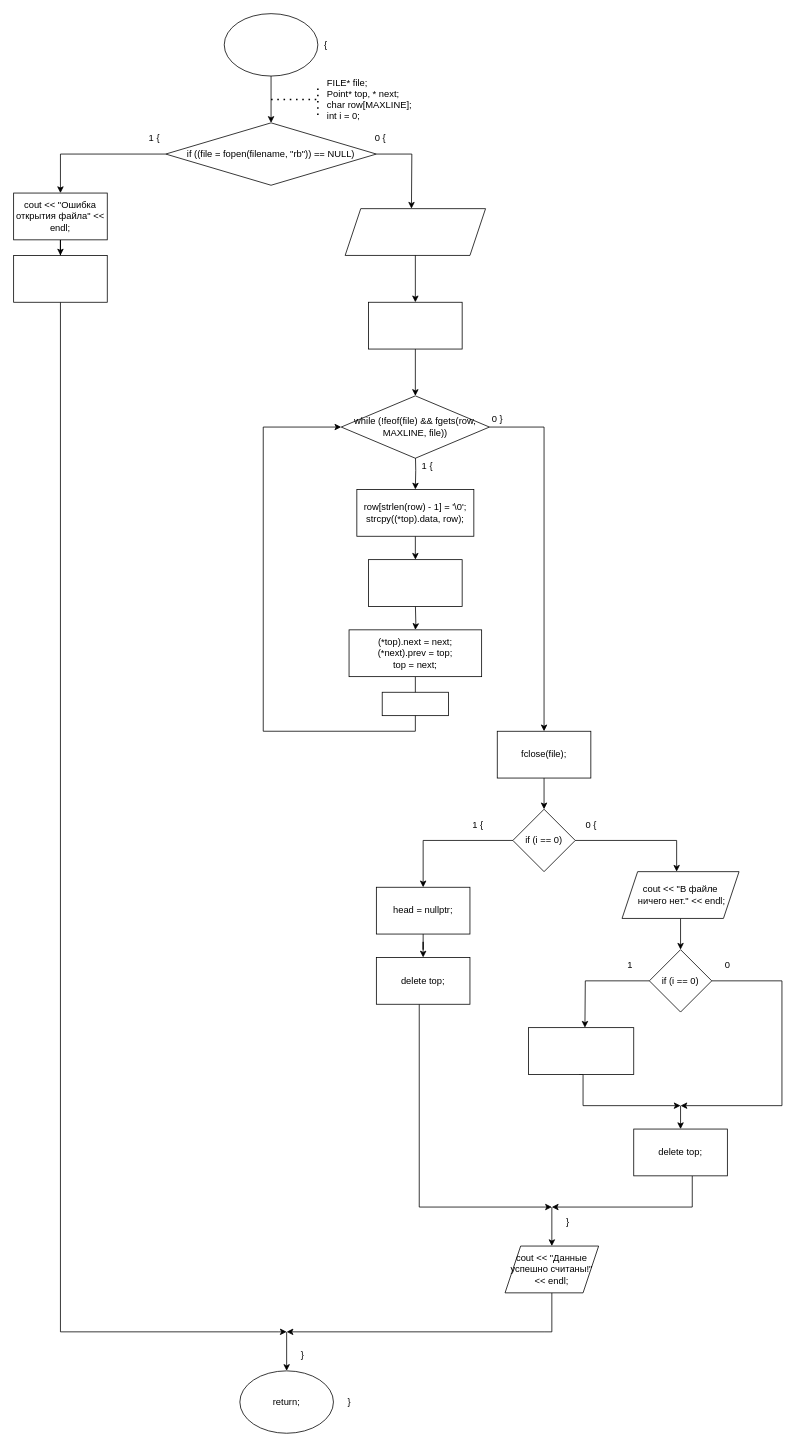
Some shapes in this 802 by 1447 pixel diagram are drawn without their labels. Each missing label, with the centre of its shape:
++i;: (414,703)
cout << "Считываем данные из файла..." << endl;: (415,231)
exit(2);: (60,278)
if ((*top).prev != nullptr): (581,1050)
next = new Point;: (415,582)
top = new Point; (*top).prev = nullptr; head = top;: (415,325)
void fromFile(char* filename): (270,44)
